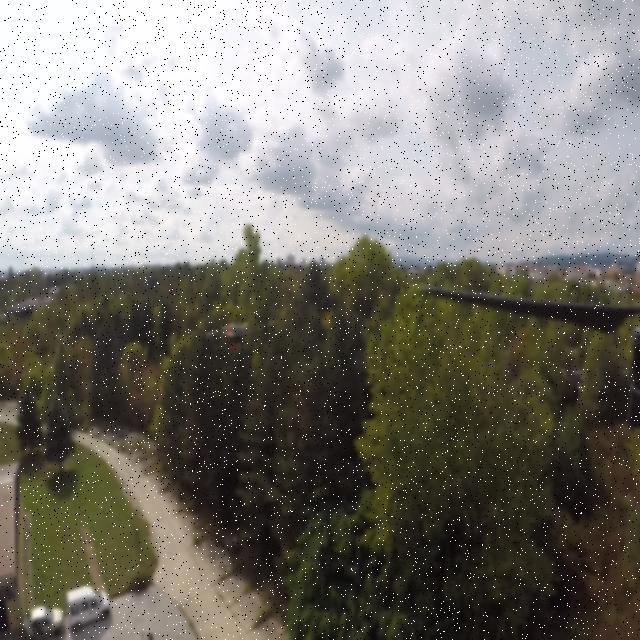UAV: (197, 312, 279, 381)
